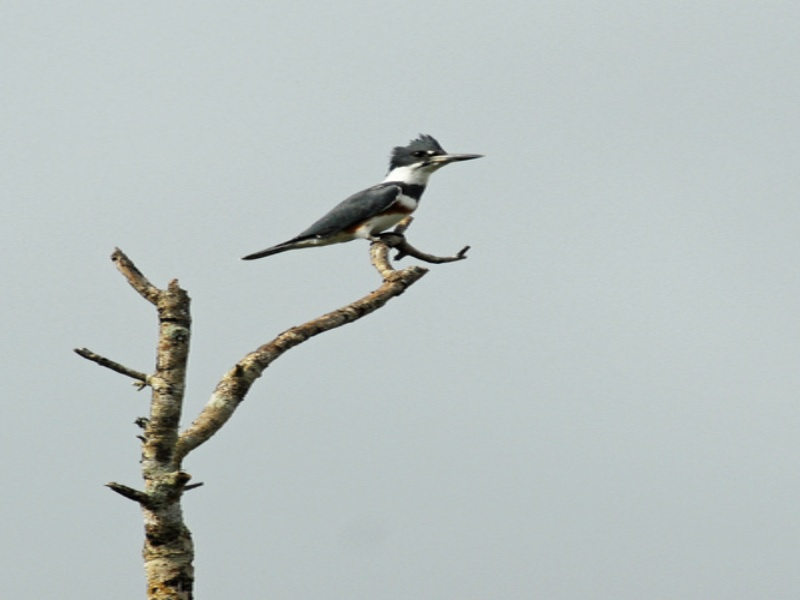kingfisher: (239, 132, 485, 266)
